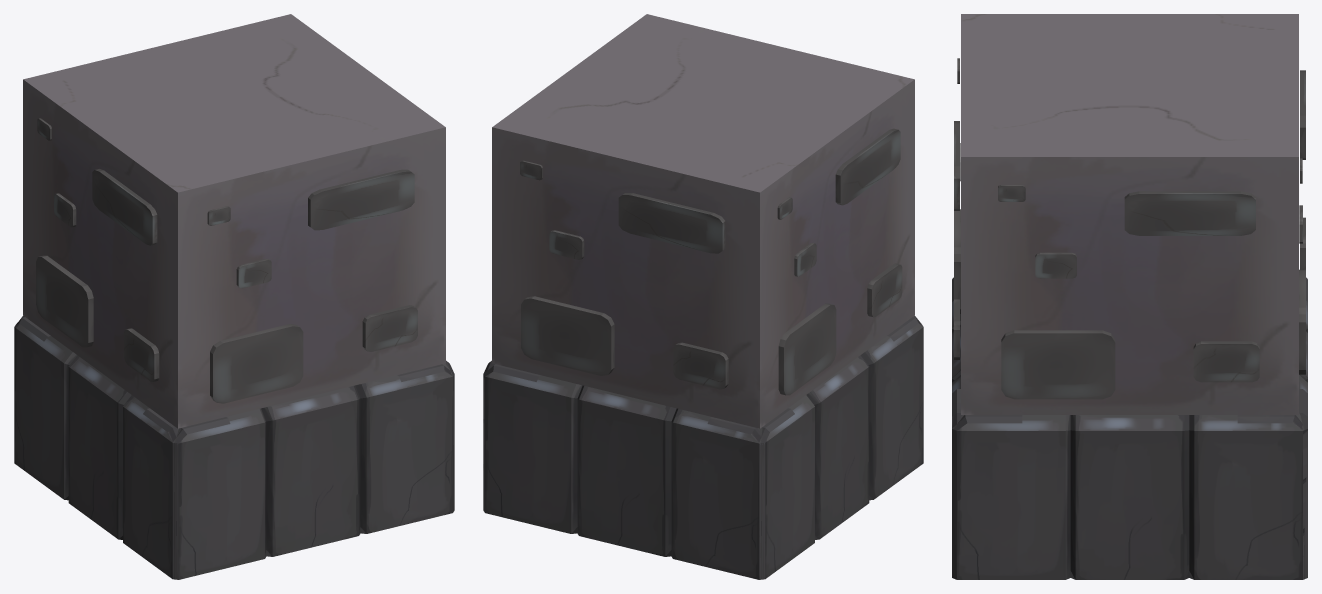
Rendered from WallfIXED.fbx.
3 renders of one model, left to right at view 1: azimuth 30°, elevation 25°; view 2: azimuth 150°, elevation 25°; view 3: azimuth 270°, elevation 25°, orthographic. The views are drawn at different scales.
Parts seen in each view (by area): view 1: Cube.003; view 2: Cube.003; view 3: Cube.003.
Boxes of the visible parts, bbox=[...] form: Cube.003: bbox=[14, 14, 454, 579]; Cube.003: bbox=[483, 14, 923, 579]; Cube.003: bbox=[952, 14, 1307, 579].
Size of the model in its own units: 100 by 130 by 100.
Materials: 1 (1 with a texture image).
